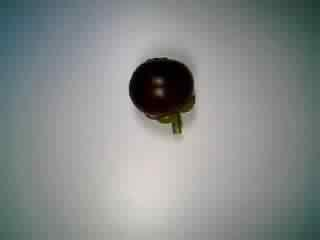mangosteen: (121, 55, 205, 139)
